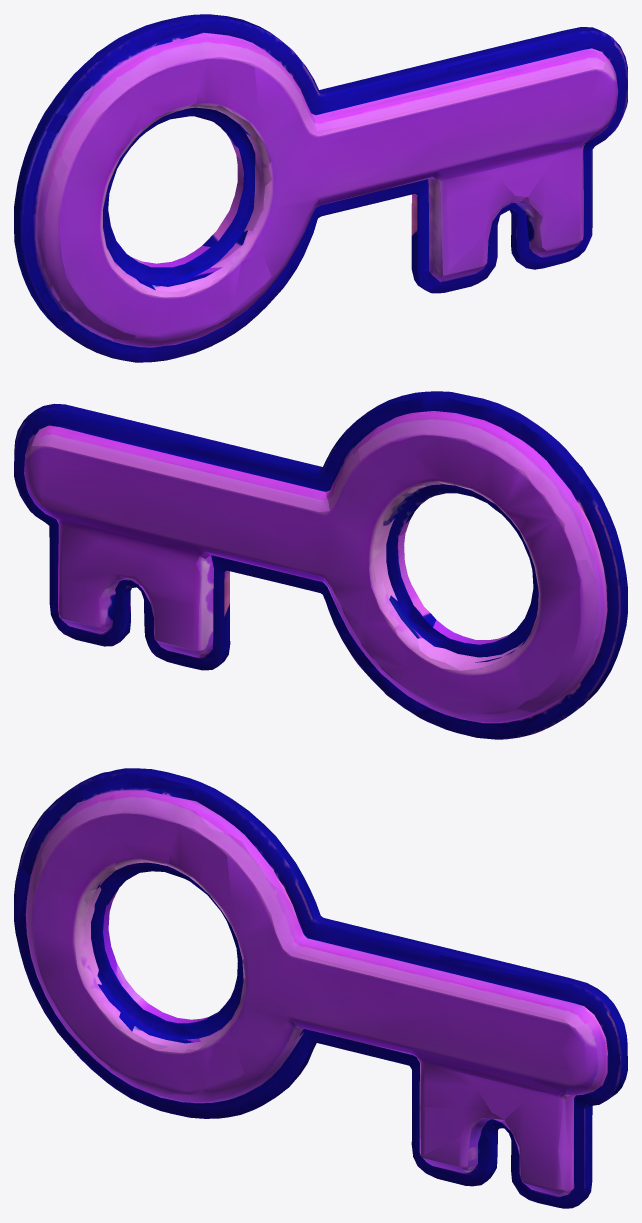
File: PurpleKey.fbx
The picture shows the model from 3 angles, top to bottom: view 1: azimuth 30°, elevation 25°; view 2: azimuth 150°, elevation 25°; view 3: azimuth 330°, elevation 25°; orthographic projection.
Visible parts, largest first — view 1: tmpefoqt2s9.ply; view 2: tmpefoqt2s9.ply; view 3: tmpefoqt2s9.ply.
Part boxes in pixels (x1,y1,x2,y2): tmpefoqt2s9.ply: (14,14,627,362); tmpefoqt2s9.ply: (14,391,627,739); tmpefoqt2s9.ply: (14,768,627,1208).
Bounding box in the file's own units: 199 × 105 × 15.83.
Materials: 1 (1 with a texture image).
